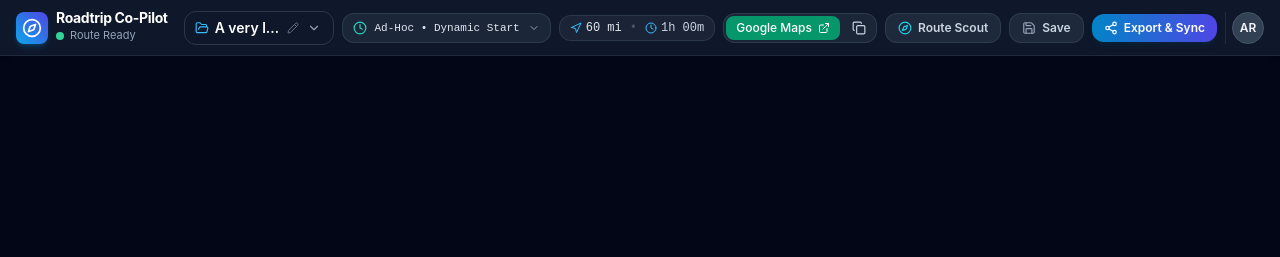
Single-row AppHeader › bounds the schedule panel and allows Ad-Hoc explanatory text to wrap
The width and height of the screenshot is (1280, 257).
Click the button "Ad-Hoc • Dynamic Start" at (446, 28), box [342,12,551,42]
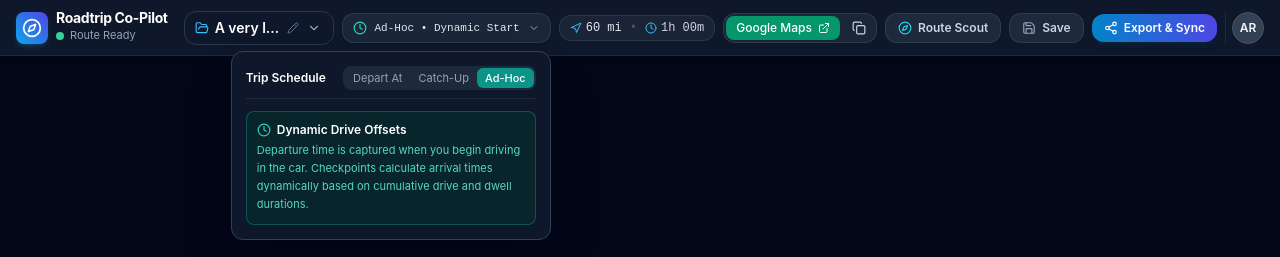
Expected: the text "Departure time is captured" is shown, [257,143,520,211]
